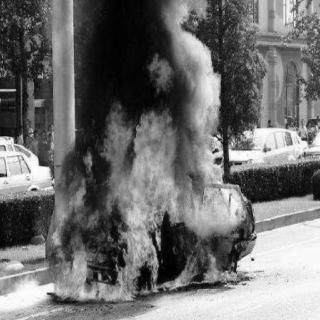Smoke: (73, 2, 221, 162)
